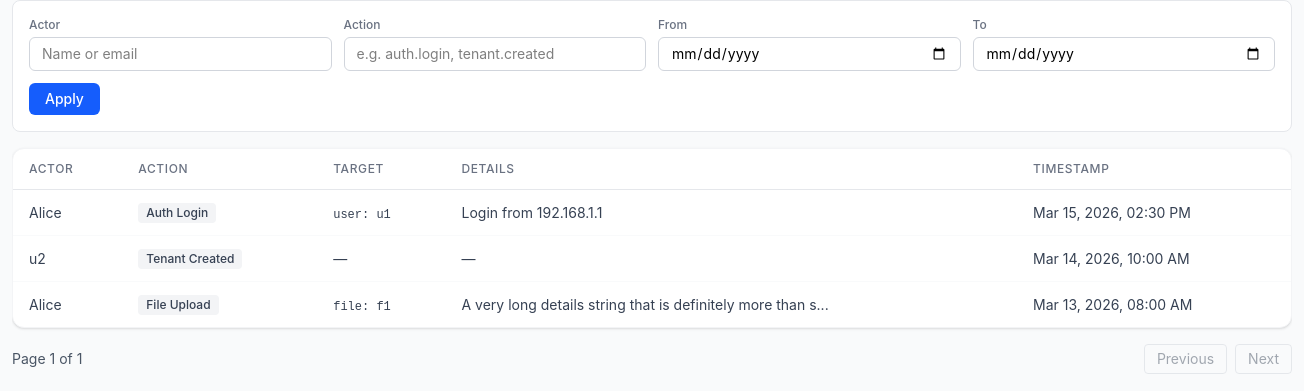
Test: AuditLogPage › clears filters when Clear is clicked
The width and height of the screenshot is (1304, 391).
Type "alice" into the field labelled "Actor".
click(180, 54); type("alice")  # box [29,37,332,71]
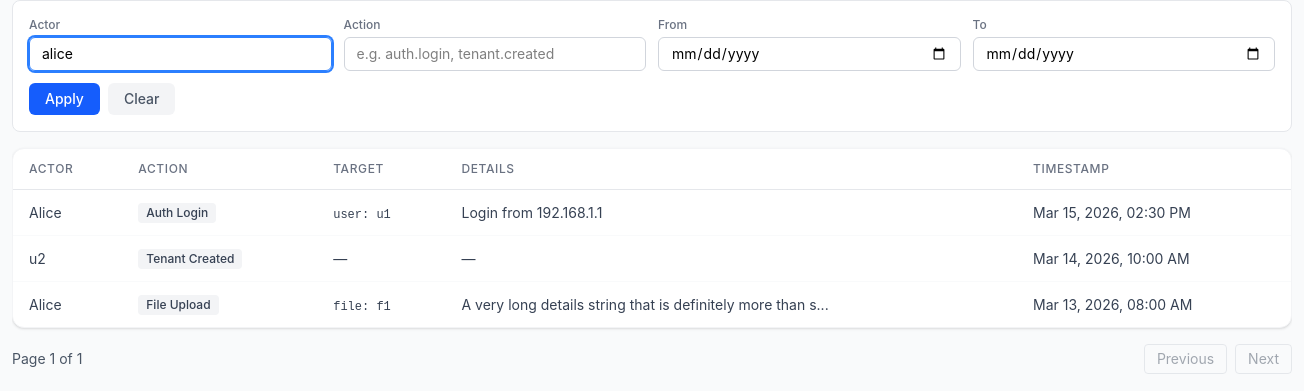
Click the button "Apply".
click(64, 99)  # box [29,83,100,115]
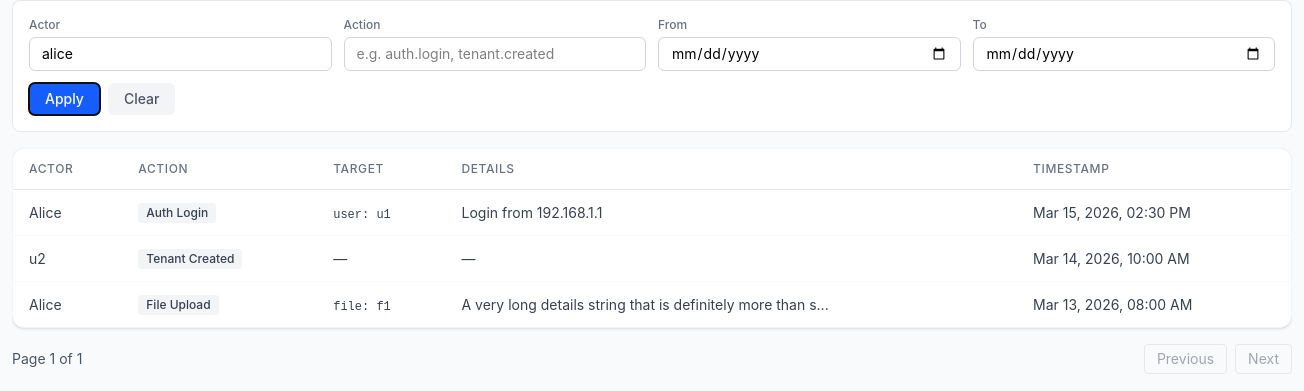
Click the button "Clear".
click(142, 99)  # box [108,83,175,115]
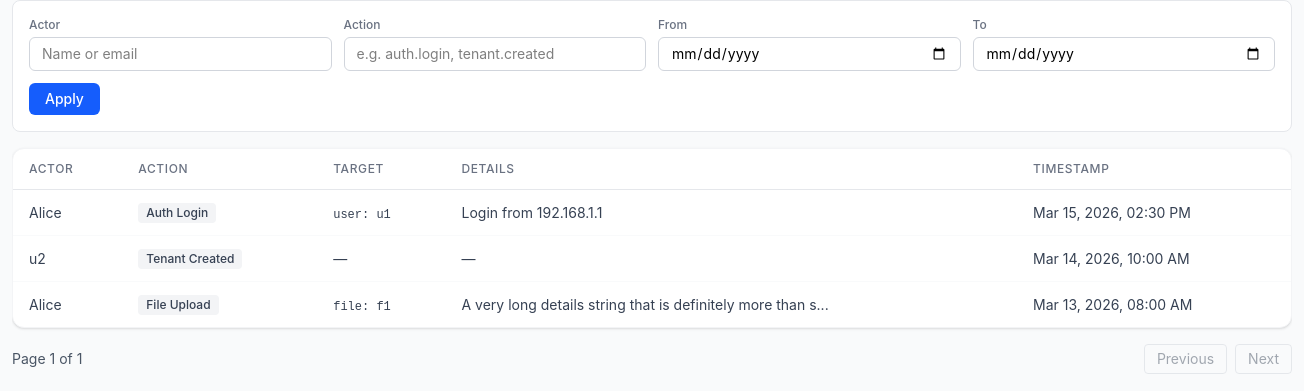
Result: the field labelled "Actor" is empty at [29,37,332,71]
